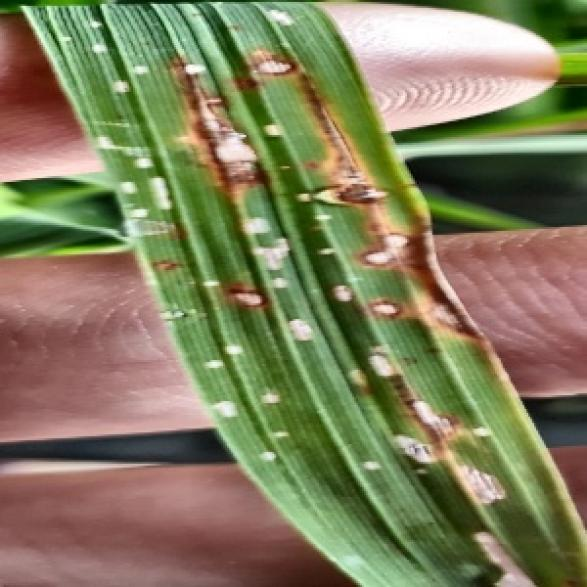Leaf_smut: (202, 337, 585, 585)
